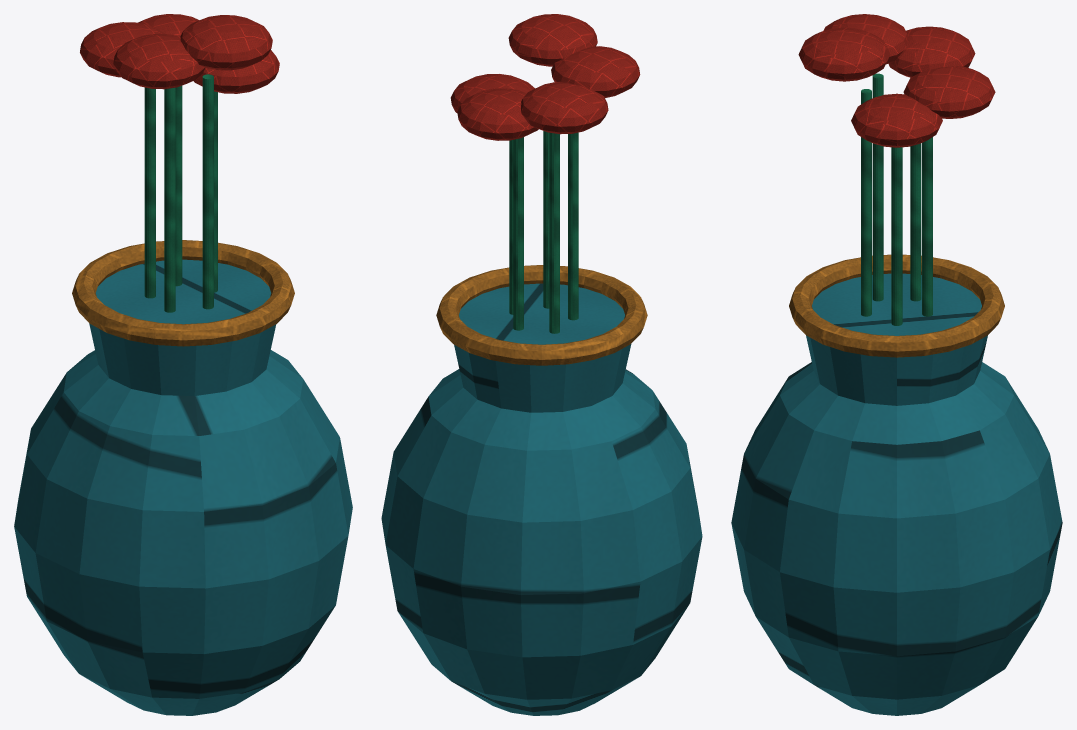
File: ceramic_vase.glb
The picture shows the model from 3 angles, left to right: view 1: azimuth 30°, elevation 25°; view 2: azimuth 150°, elevation 25°; view 3: azimuth 270°, elevation 25°; orthographic projection. The views are drawn at different scales.
Parts seen in each view (by area): view 1: ceramic_vase_Ceramic, ceramic_vase_Brocade, ceramic_vase_Jade, ceramic_vase_Brass; view 2: ceramic_vase_Ceramic, ceramic_vase_Brocade, ceramic_vase_Brass, ceramic_vase_Jade; view 3: ceramic_vase_Ceramic, ceramic_vase_Brocade, ceramic_vase_Jade, ceramic_vase_Brass.
Part boxes in pixels (bbox=[...]): ceramic_vase_Ceramic: bbox=[14, 259, 352, 715]; ceramic_vase_Brocade: bbox=[80, 14, 279, 93]; ceramic_vase_Jade: bbox=[144, 74, 217, 312]; ceramic_vase_Brass: bbox=[72, 240, 294, 346]; ceramic_vase_Ceramic: bbox=[381, 283, 702, 715]; ceramic_vase_Brocade: bbox=[450, 14, 640, 140]; ceramic_vase_Brass: bbox=[436, 265, 647, 365]; ceramic_vase_Jade: bbox=[509, 131, 578, 333]; ceramic_vase_Ceramic: bbox=[731, 273, 1062, 715]; ceramic_vase_Brocade: bbox=[798, 14, 995, 147]; ceramic_vase_Jade: bbox=[861, 73, 932, 325]; ceramic_vase_Brass: bbox=[789, 254, 1004, 357].
Size of the model in its own units: 0.72 by 1.62 by 0.72.
Materials: 4 (4 with a texture image).
